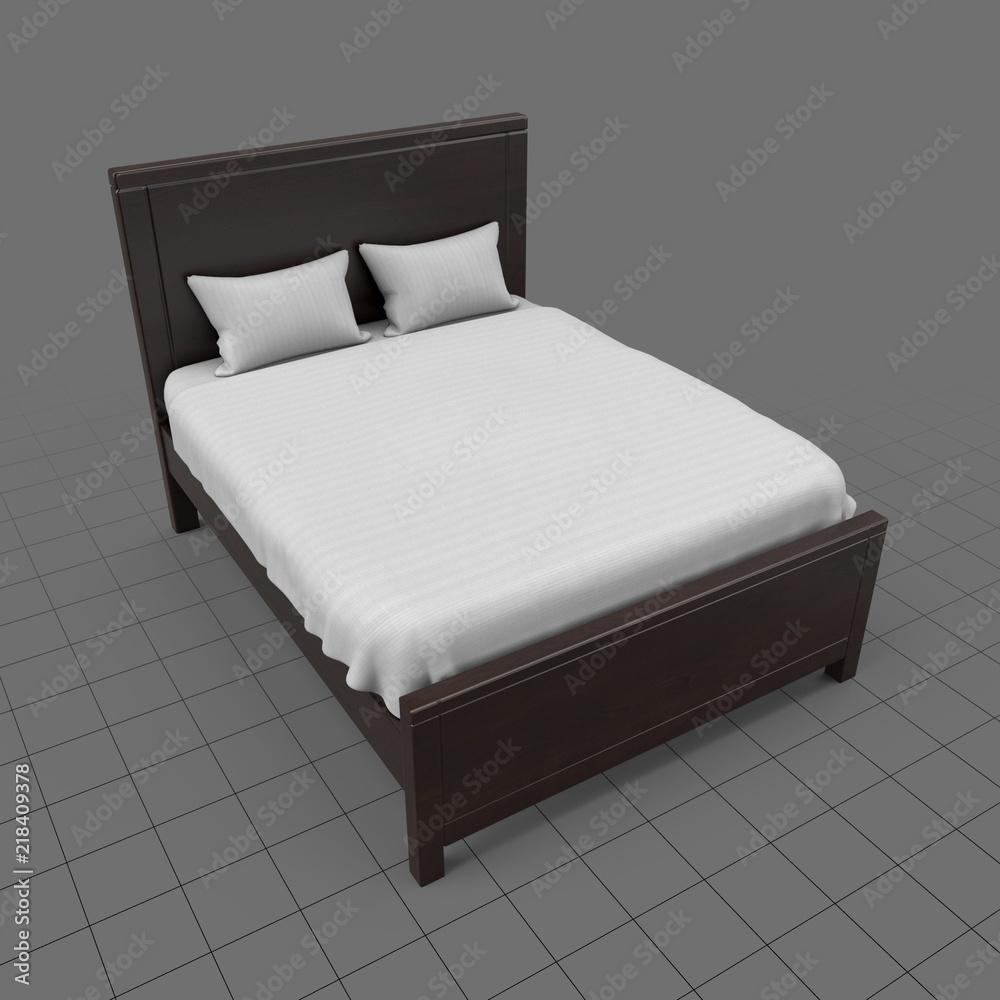bed: (62, 102, 980, 778)
